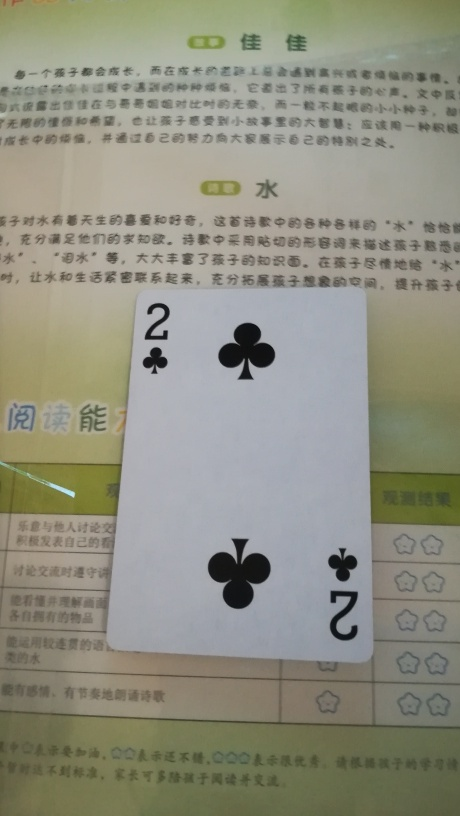mh 2: (102, 292, 370, 659)
